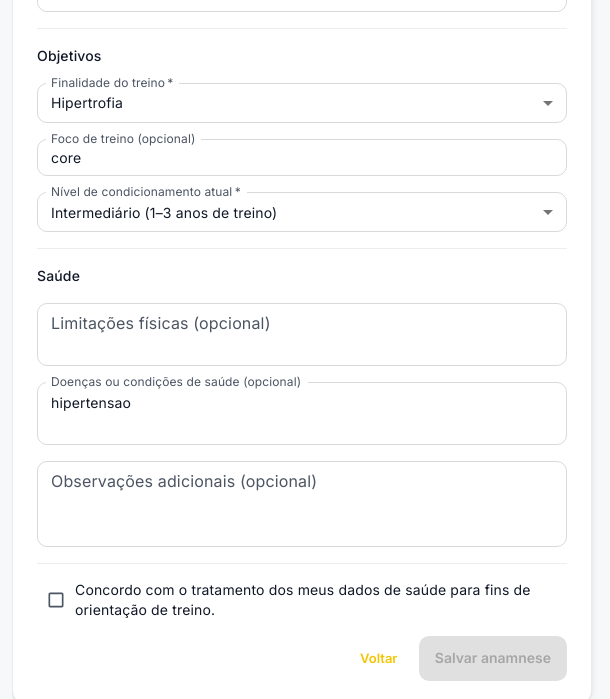
Test: /perfil/anamnese › happy: consentir e salvar dispara PUT /aluno/anamnese com consentimento
(page scrolled)
Check: the field labelled "Foco de treino (opcional)" is shown, box [37, 139, 567, 176]
Click the checkbox. click: (302, 600)
box: [37, 580, 567, 620]
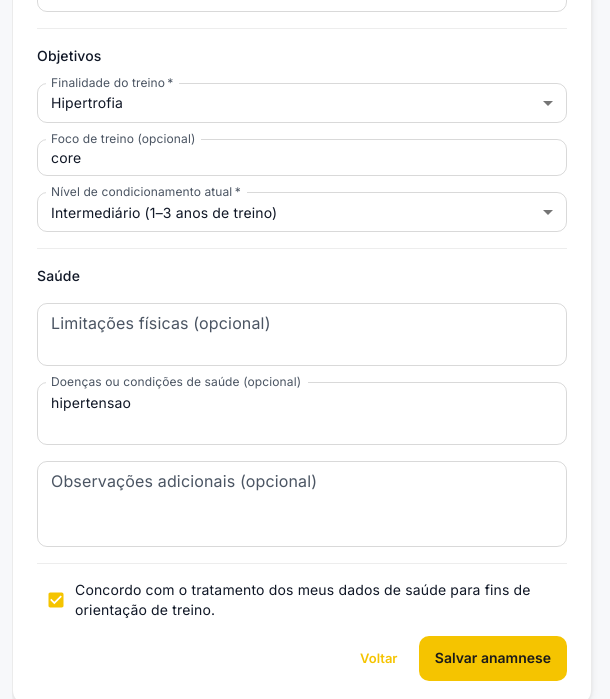
Click the button "Salvar anamnese". click: (493, 658)
box: [419, 636, 567, 681]
(page scrolled)
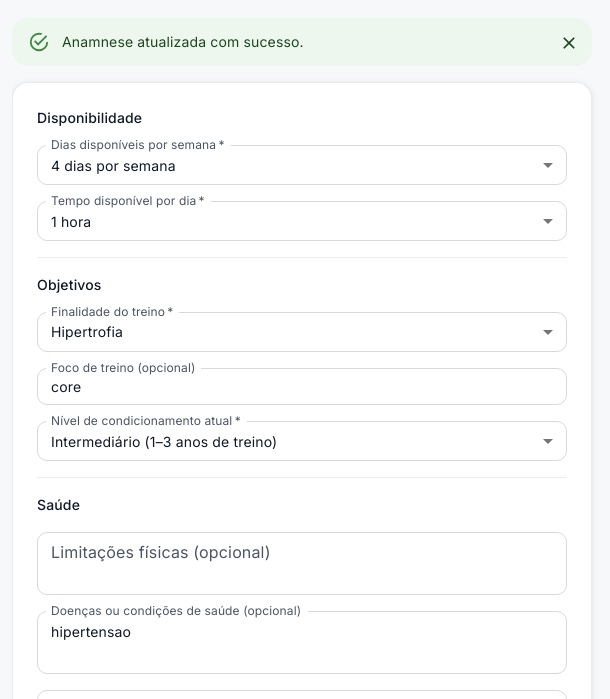
Check: the text "Anamnese atualizada com sucesso." is shown, box [62, 33, 304, 50]
